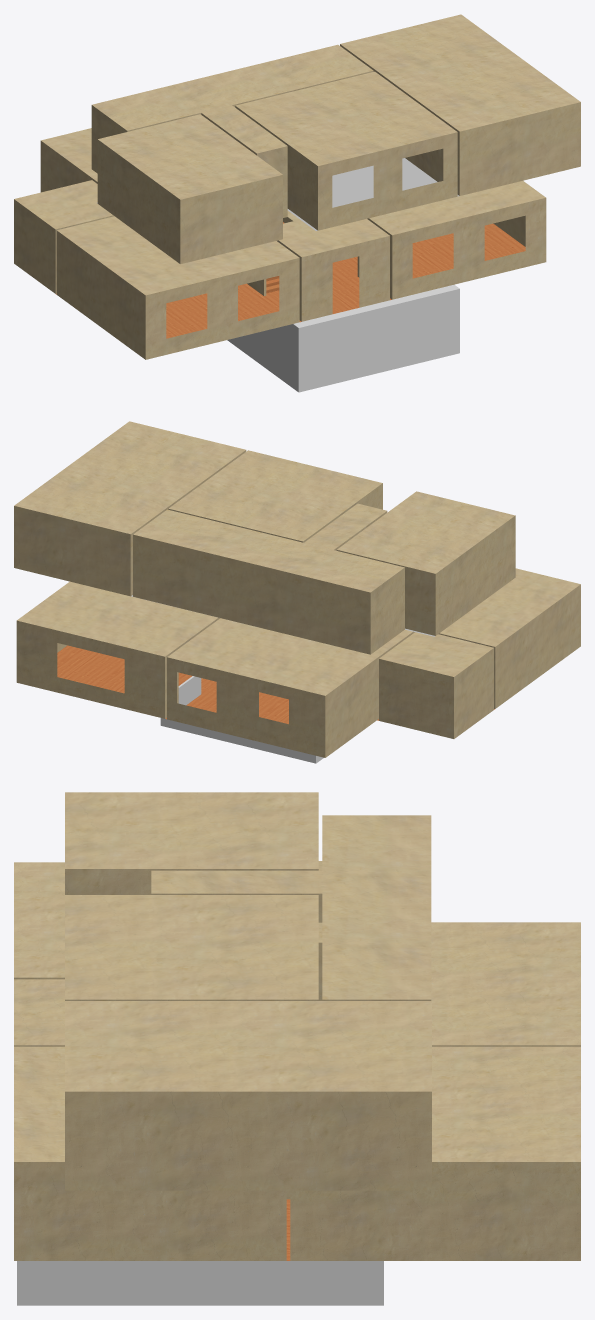
File: Haunted House Final V2.fbx
3 renders of one model, top to bottom at view 1: azimuth 30°, elevation 25°; view 2: azimuth 150°, elevation 25°; view 3: azimuth 270°, elevation 25°, orthographic. The views are drawn at different scales.
Parts seen in each view (by area): view 1: SecondFloor_Walls, GroundFloor_Walls, Basement, GroundFloor_Floor, SecondFloor_Floor; view 2: SecondFloor_Walls, GroundFloor_Walls, GroundFloor_Floor, Basement, GroundFloor_HalfWall; view 3: SecondFloor_Walls, GroundFloor_Walls, Basement.
Boxes of the visible parts, box(x1,y1,x2,y2) form: SecondFloor_Walls: box(91, 14, 580, 264); GroundFloor_Walls: box(14, 128, 546, 359); Basement: box(227, 284, 459, 392); GroundFloor_Floor: box(56, 222, 525, 338); SecondFloor_Floor: box(97, 158, 459, 230); SecondFloor_Walls: box(14, 421, 515, 654); GroundFloor_Walls: box(16, 568, 580, 757); GroundFloor_Floor: box(57, 645, 494, 724); Basement: box(160, 718, 323, 763); GroundFloor_HalfWall: box(178, 676, 201, 705); SecondFloor_Walls: box(65, 792, 431, 1190); GroundFloor_Walls: box(14, 862, 580, 1260); Basement: box(17, 1261, 383, 1305).
Bounding box in the file's own units: 2200 × 960 × 1560.
